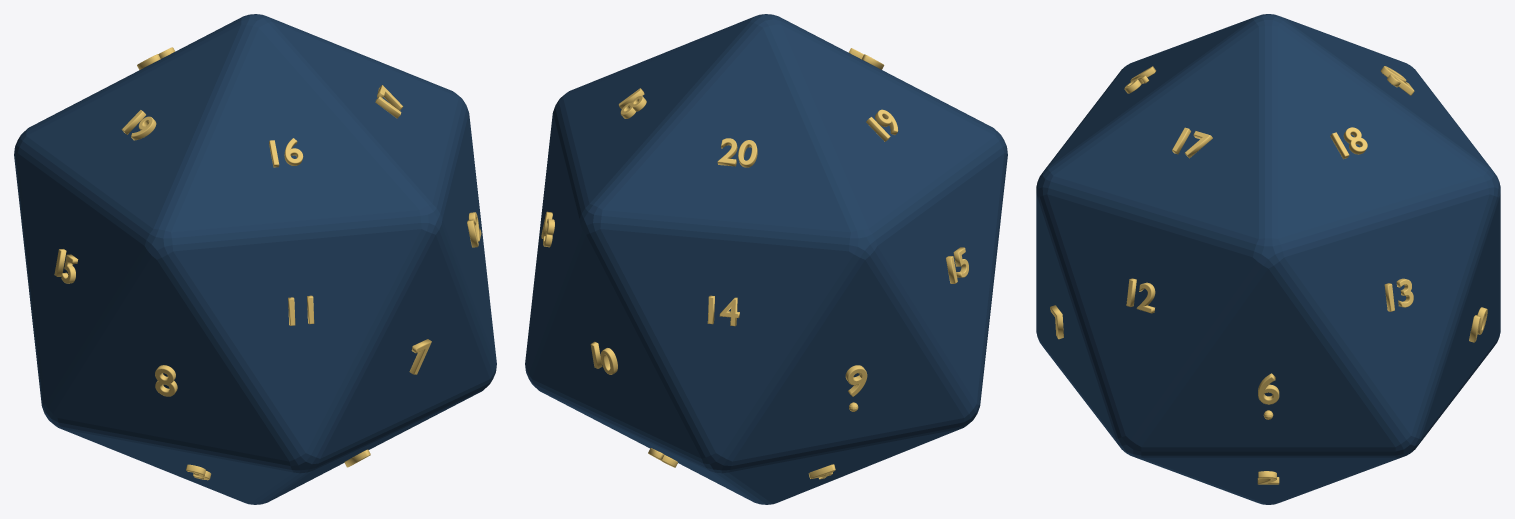
File: d20_allies_leo.glb
3 renders of one model, left to right at view 1: azimuth 30°, elevation 25°; view 2: azimuth 150°, elevation 25°; view 3: azimuth 270°, elevation 25°, orthographic.
Parts seen in each view (by area): view 1: D20_Allies_Leo, Face_19, Face_08, Face_15, Face_16; view 2: D20_Allies_Leo, Face_20, Face_10, Face_19, Face_15; view 3: D20_Allies_Leo, Face_18, Face_12, Face_13, Face_17.
Part boxes in pixels (x1,y1,x2,y2): D20_Allies_Leo: (14,14,496,504); Face_19: (121,110,156,140); Face_08: (155,365,177,396); Face_15: (54,249,78,283); Face_16: (269,138,303,167); D20_Allies_Leo: (525,14,1007,504); Face_20: (717,138,757,167); Face_10: (590,341,617,374); Face_19: (866,109,898,141); Face_15: (946,247,968,283); D20_Allies_Leo: (1036,14,1500,504); Face_18: (1330,127,1367,159); Face_12: (1126,278,1155,313); Face_13: (1384,278,1413,311); Face_17: (1172,127,1212,158).
Bounding box in the file's own units: 3.52 × 3.87 × 3.37.
